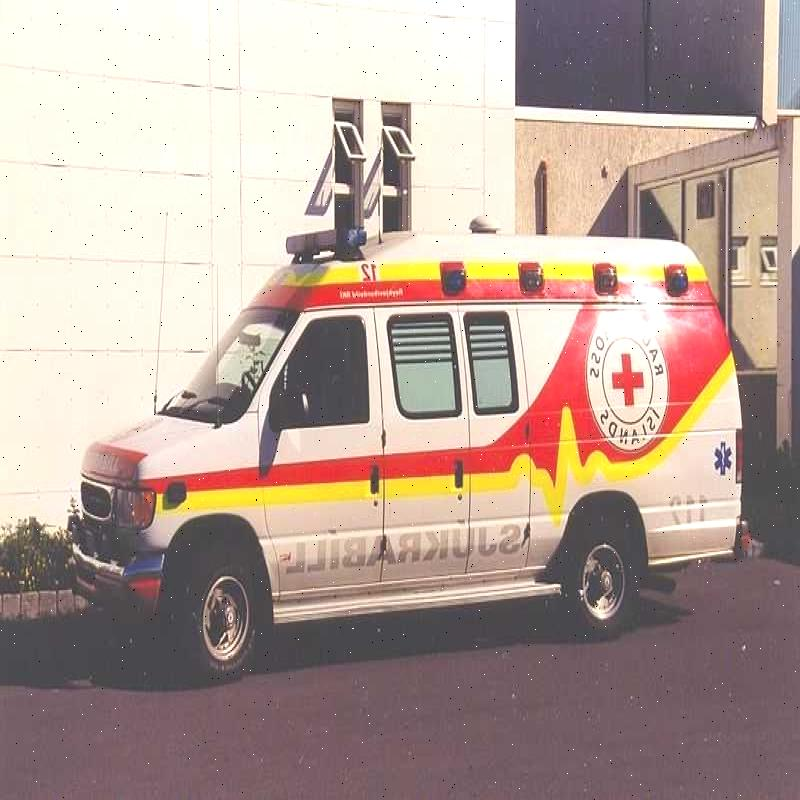AmbulanceSiren: (257, 206, 374, 290)
